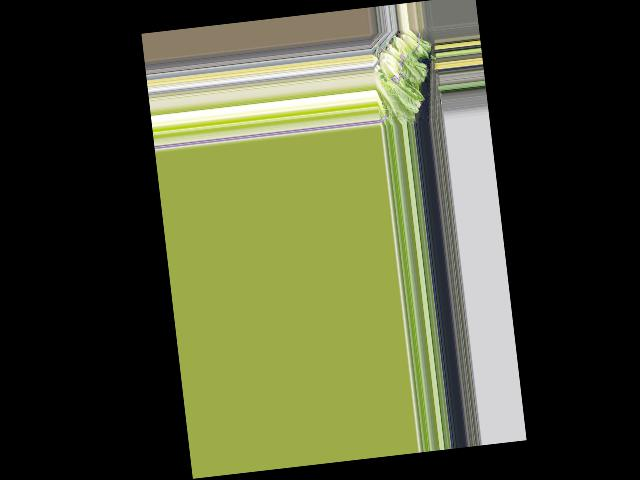lettuce: (376, 68, 420, 125)
